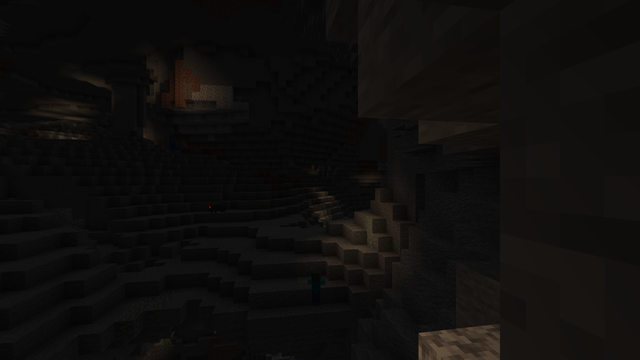araignees: (207, 203, 222, 212)
zombies: (310, 270, 321, 306)
